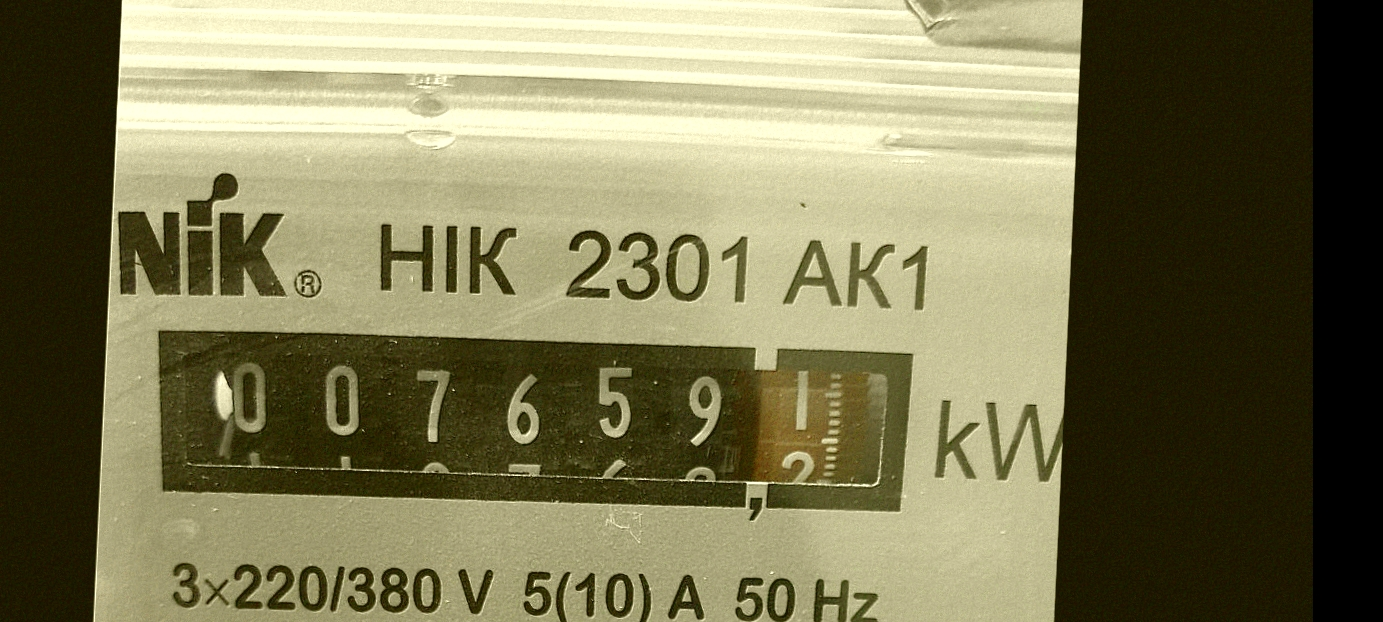0: (310, 355, 370, 443), (222, 352, 276, 444)
1: (785, 363, 822, 440)
5: (588, 360, 638, 444)
6: (495, 365, 550, 450)
7: (408, 363, 454, 449)
9: (681, 367, 727, 457)
screen: (131, 297, 934, 548)
